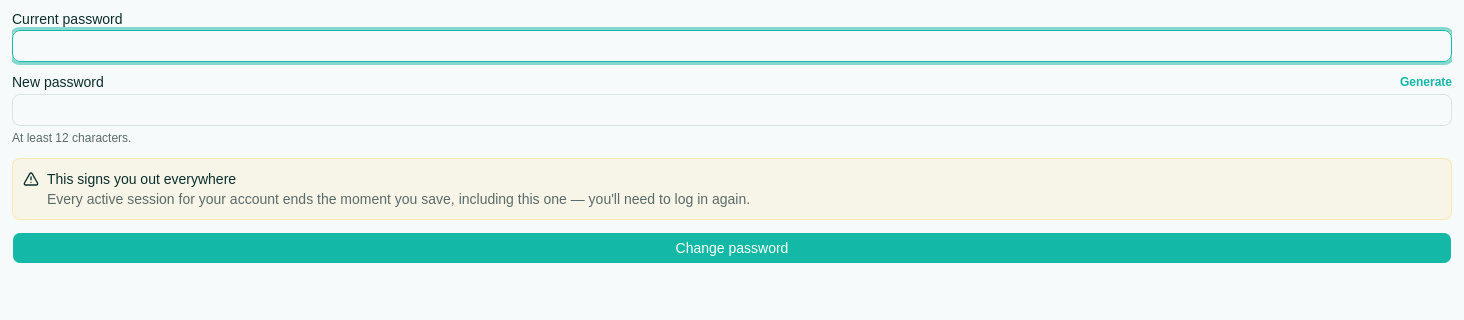
Test case: ChangePasswordForm › Generate password › fills the new-password field with a generated value and reveals the chip
The width and height of the screenshot is (1464, 320).
Click the button "Generate".
click(1426, 82)  # box x1=1400 y1=74 x2=1452 y2=90
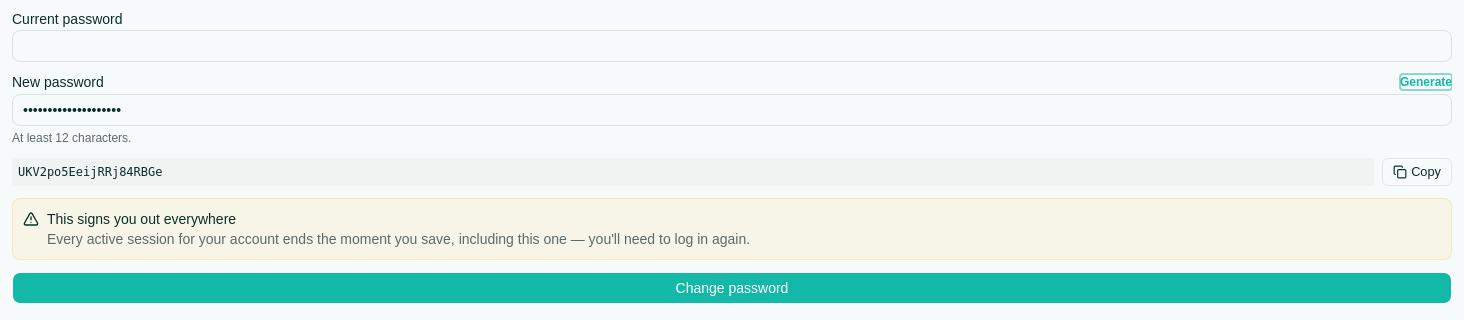
Check: the button "Copy" is shown, box x1=1382 y1=158 x2=1452 y2=186
